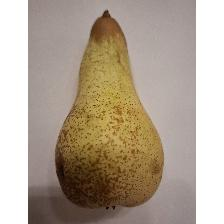Birne: (50, 8, 170, 214)
